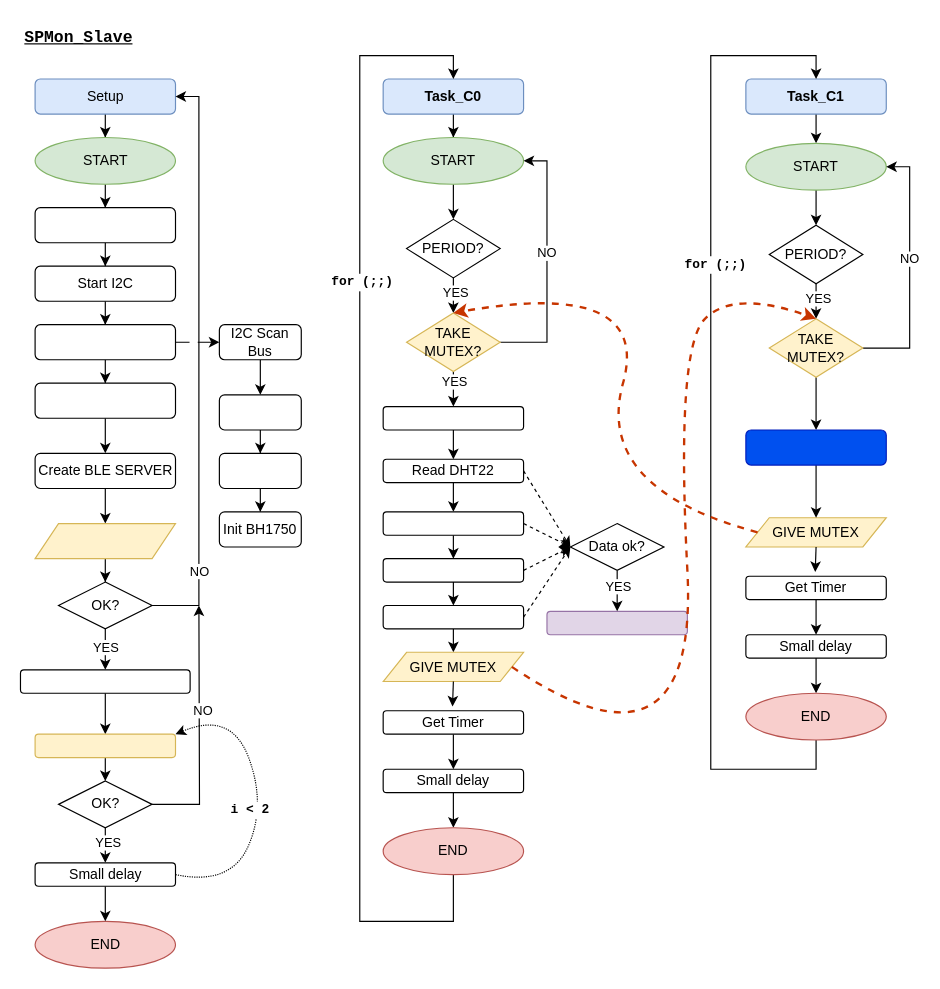
This 940x989 diagram has some shape labels left out. Each missing label, with the centre of its shape:
Add data in payload: the point at 616,622
BLE SEND PAYLOAD: the point at 815,447
Create MUTEX: the point at 105,540
CREATE TASKS: the point at 105,745
Init AS7341: the point at 259,412
Init BMP180: the point at 259,470
Init DHT22: the point at 105,400
Init I2C Devices: the point at 105,342
payload.cnt++: the point at 453,417
Read AS7341: the point at 453,616
Read BMP180: the point at 453,570
Read DS12B0: the point at 453,523
SET EMPTY PAYLOAD: the point at 104,681
Start Serial COM: the point at 105,225
